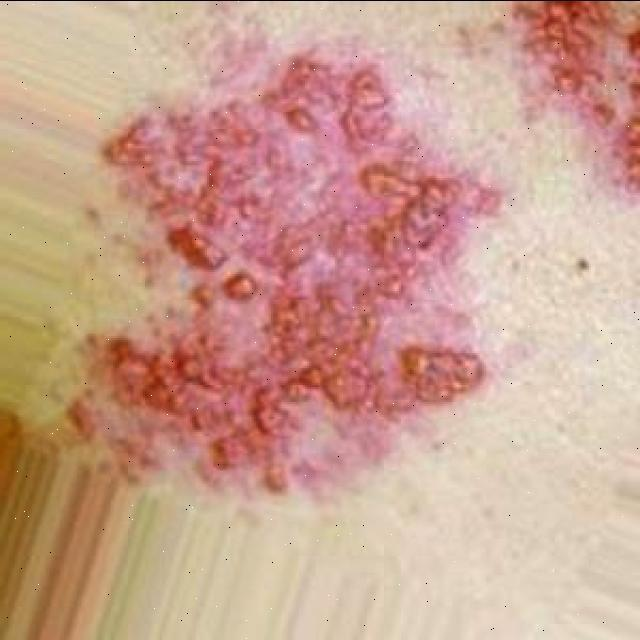Shingles: (69, 53, 496, 482), (498, 0, 640, 194)
